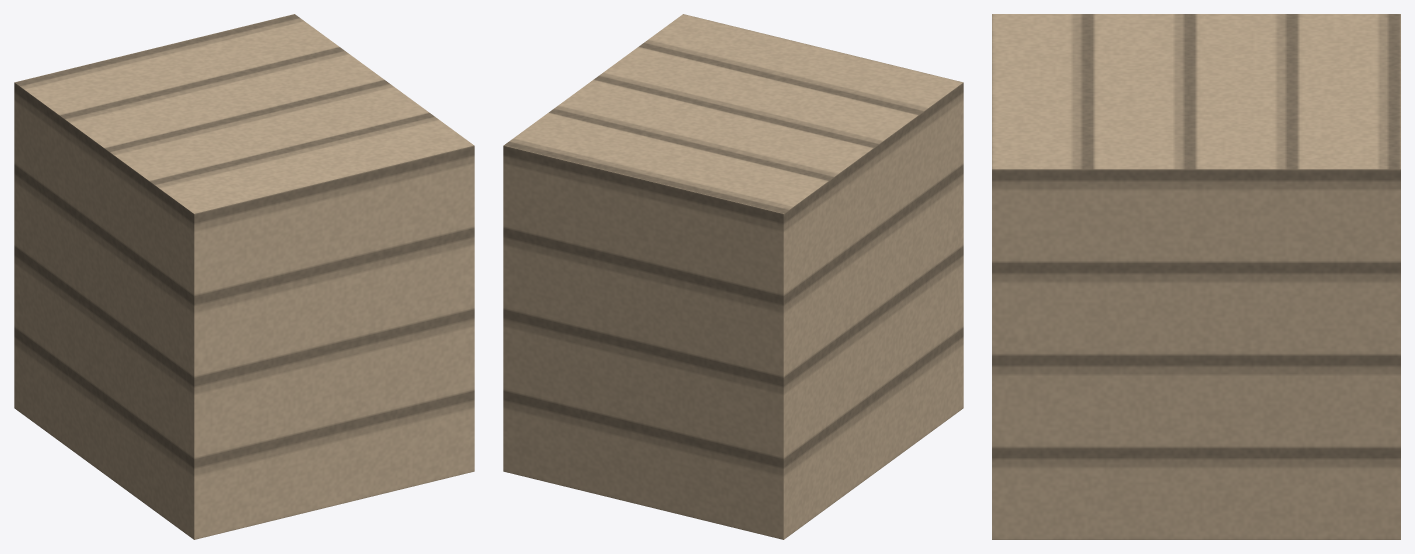
The model's file is computer_library_terminal.glb.
The picture shows the model from 3 angles, left to right: view 1: azimuth 30°, elevation 25°; view 2: azimuth 150°, elevation 25°; view 3: azimuth 270°, elevation 25°; orthographic projection. The views are drawn at different scales.
Parts seen in each view (by area): view 1: computer_library_terminal-col; view 2: computer_library_terminal-col; view 3: computer_library_terminal-col.
Boxes of the visible parts, x1,y1,x2,y2 form: computer_library_terminal-col: [14, 14, 474, 539]; computer_library_terminal-col: [503, 14, 963, 539]; computer_library_terminal-col: [992, 14, 1400, 539].
Size of the model in its own units: 0.45 by 0.5 by 0.5.
1 material, 1 textured.
